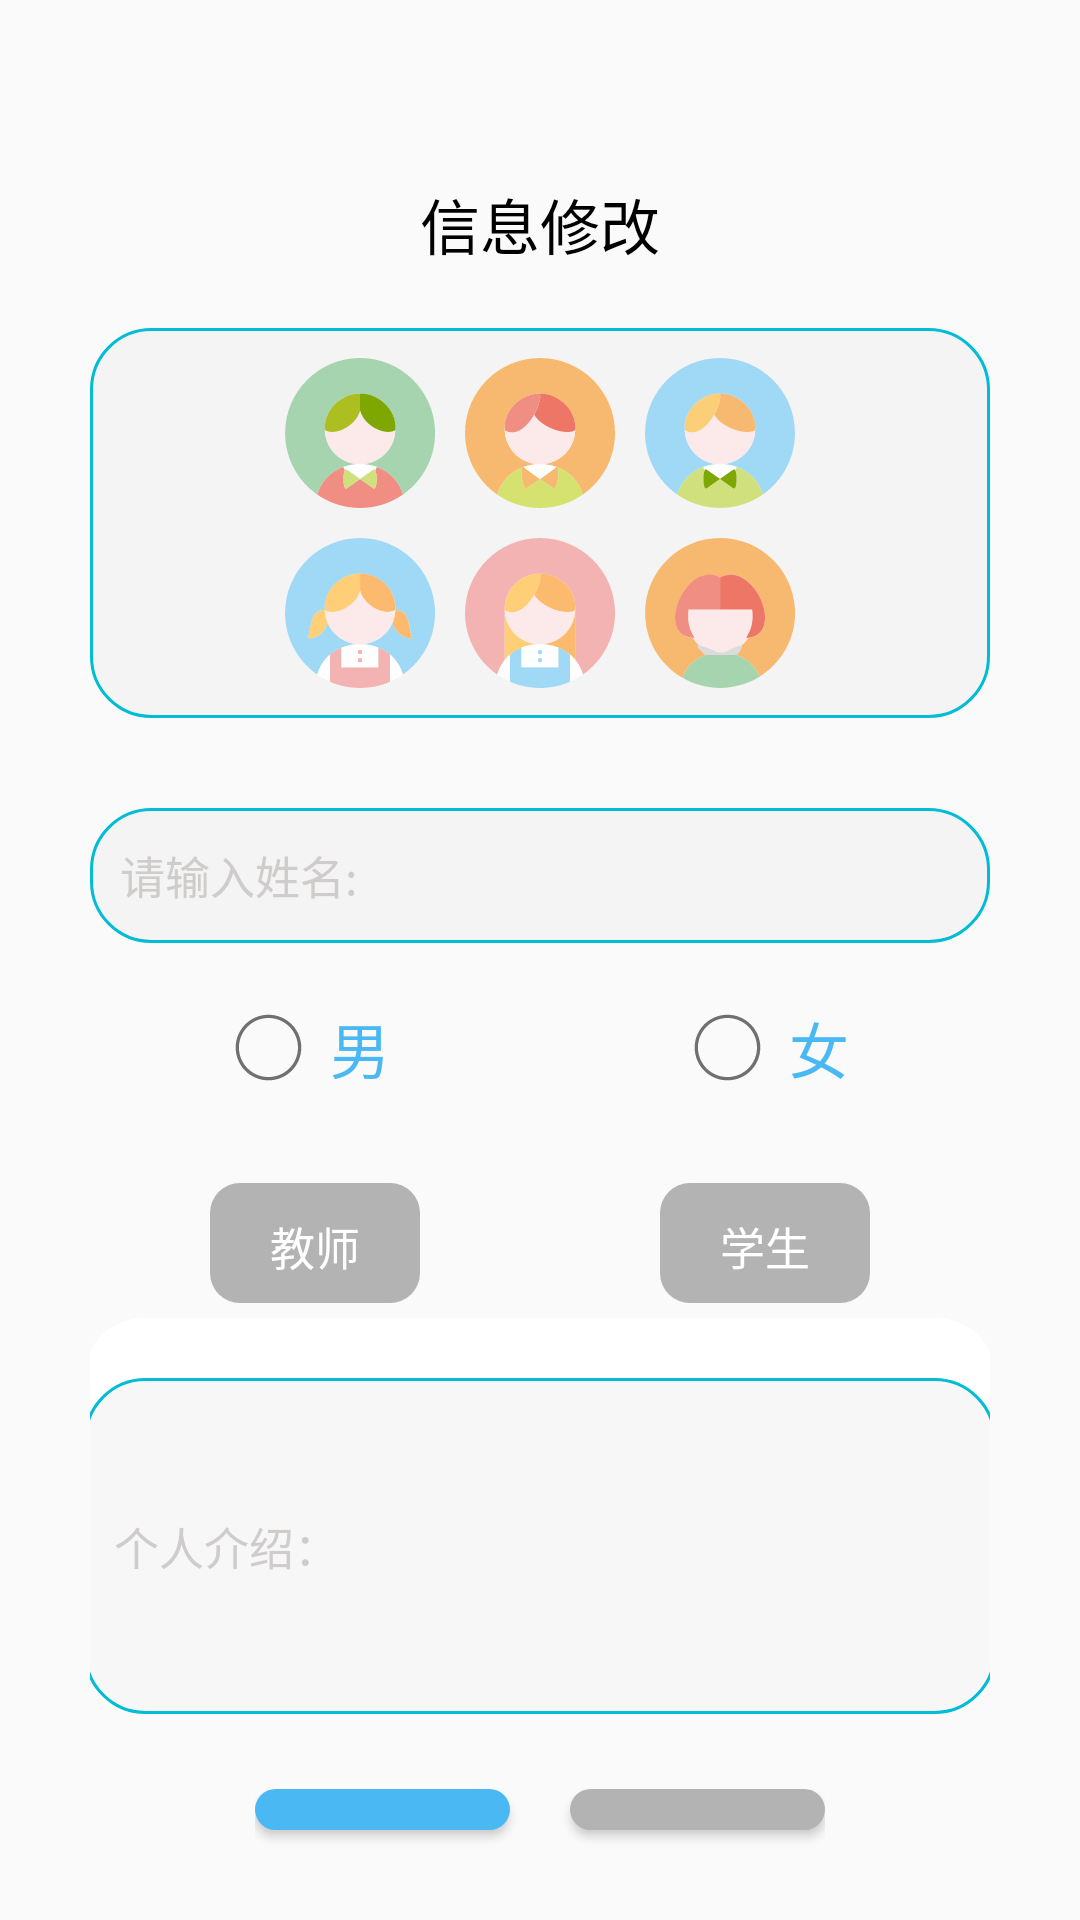

Icons on this 1080px x 1920px Android screen, each with its box as (x1, y1, x2, y2):
boy: (285, 358, 435, 508), (465, 358, 615, 508), (645, 358, 795, 508)
girl: (285, 538, 435, 688), (465, 538, 615, 688), (645, 538, 795, 688)
select radio bt: (235, 1014, 302, 1081), (694, 1014, 761, 1081)
